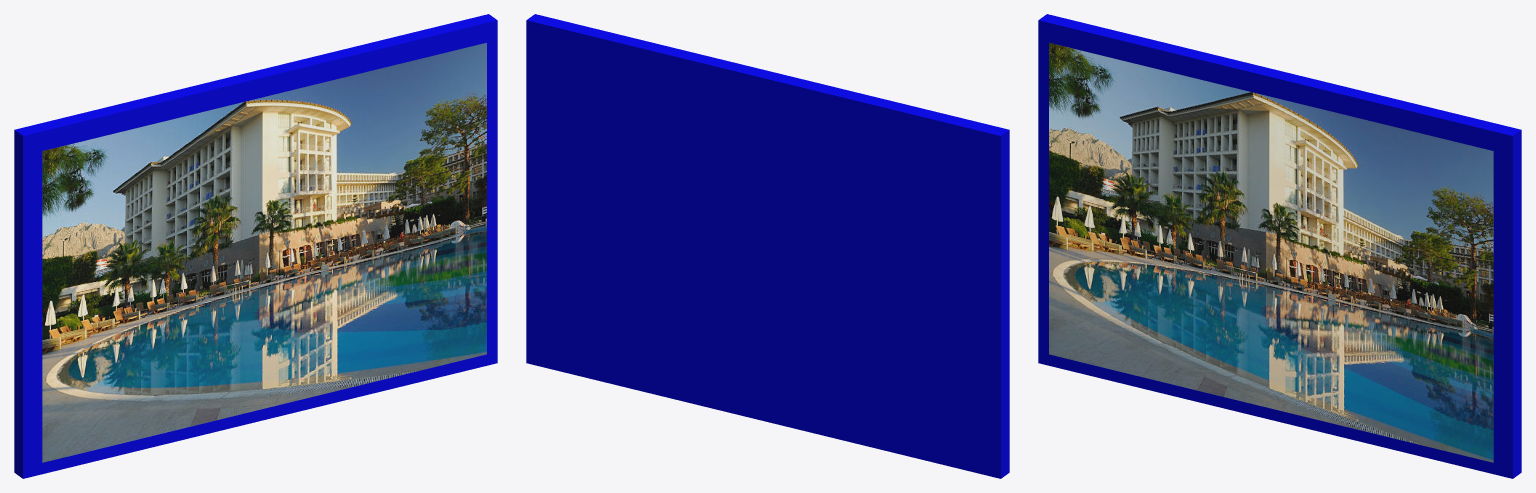
3 views of the same model, side by side, from view 1: azimuth 30°, elevation 25°; view 2: azimuth 150°, elevation 25°; view 3: azimuth 330°, elevation 25° (orthographic).
Parts seen in each view (by area): view 1: PhotoPlane, PhotoBorder; view 2: PhotoBorder; view 3: PhotoPlane, PhotoBorder.
Boxes of the visible parts, x1,y1,x2,y2 form: PhotoPlane: (42,42,486,462); PhotoBorder: (14,14,497,478); PhotoBorder: (526,14,1009,478); PhotoPlane: (1049,42,1493,462); PhotoBorder: (1038,14,1521,478).
Bounding box in the file's own units: 15.93 × 11 × 0.75.
Materials: 2 (1 with a texture image).
